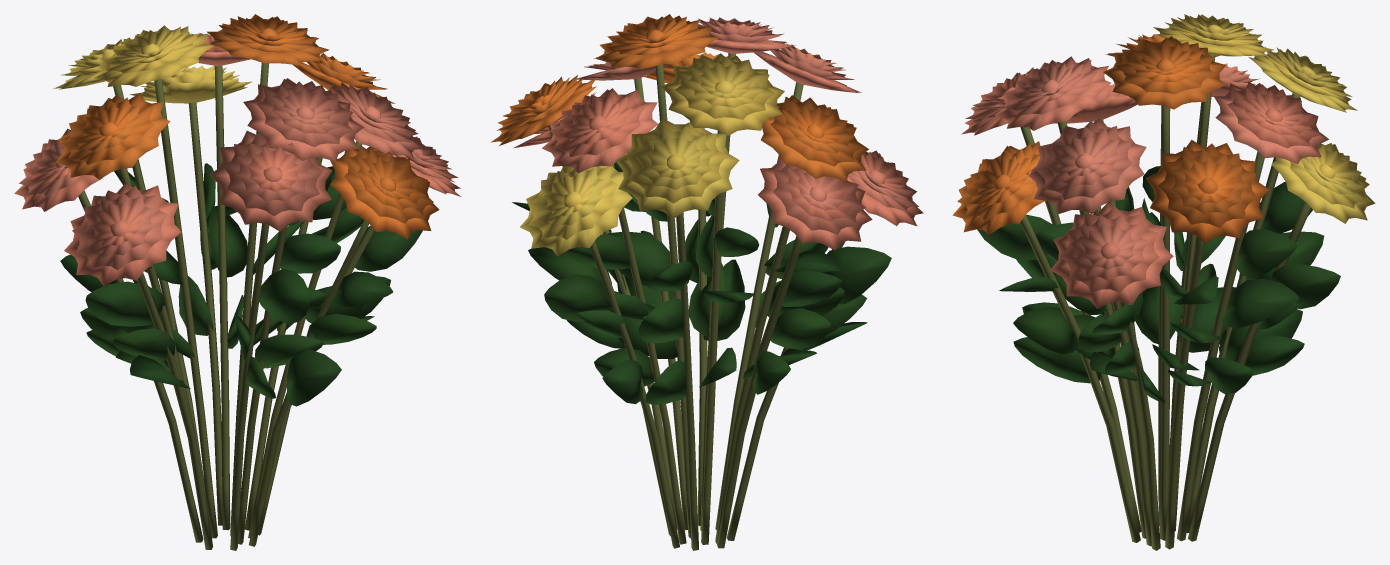
Rendered from bucket_dahlias_warm.glb.
3 views of the same model, side by side, from view 1: azimuth 30°, elevation 25°; view 2: azimuth 150°, elevation 25°; view 3: azimuth 270°, elevation 25° (orthographic).
Visible parts, largest first — view 1: Sammel Pflanze, Sammel Putz; view 2: Sammel Pflanze, Sammel Putz; view 3: Sammel Pflanze, Sammel Putz.
Part boxes in pixels (x1,y1,x2,y2): Sammel Pflanze: [14, 14, 460, 406]; Sammel Putz: [78, 63, 374, 550]; Sammel Pflanze: [490, 14, 923, 405]; Sammel Putz: [548, 53, 844, 550]; Sammel Pflanze: [952, 14, 1375, 402]; Sammel Putz: [1020, 54, 1311, 550].
Bounding box in the file's own units: 0.4227 × 0.5294 × 0.4028.
